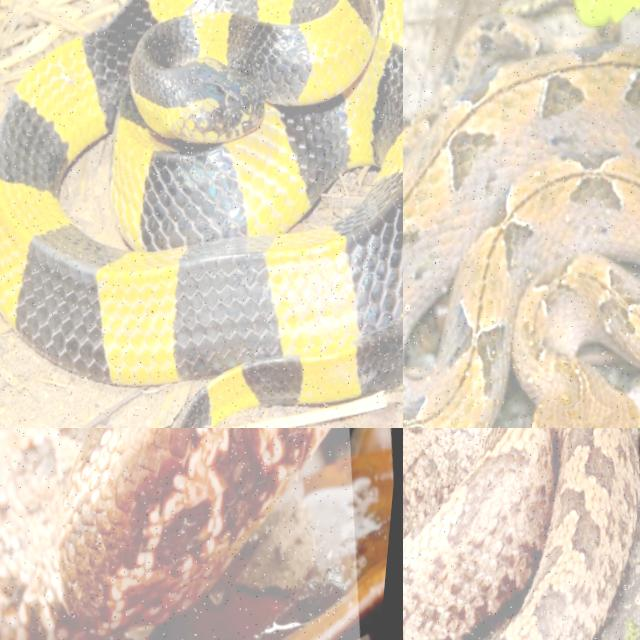Bungarus fasciatus: (0, 0, 402, 427)
Calloselasma rhodostoma: (403, 19, 639, 427)
Ovophis monticola: (0, 428, 329, 639), (403, 428, 639, 639)
